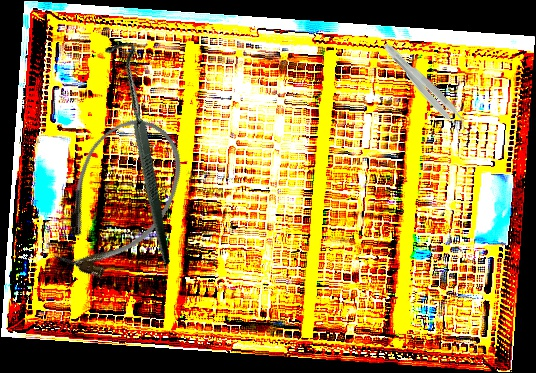Cannula: (33, 101, 203, 296)
Hook Surgical: (49, 37, 228, 265)
Tissue Forceps: (377, 39, 472, 138)
